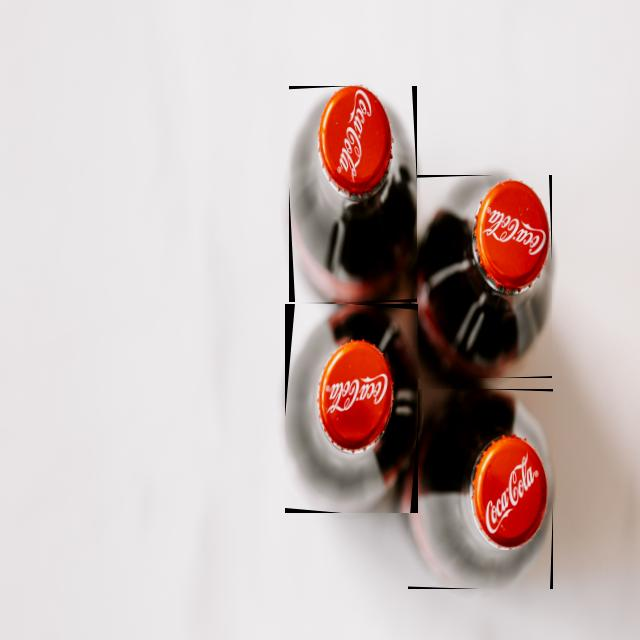Bottle: (409, 176, 552, 377), (408, 390, 553, 588), (289, 86, 417, 302), (286, 305, 418, 512)
